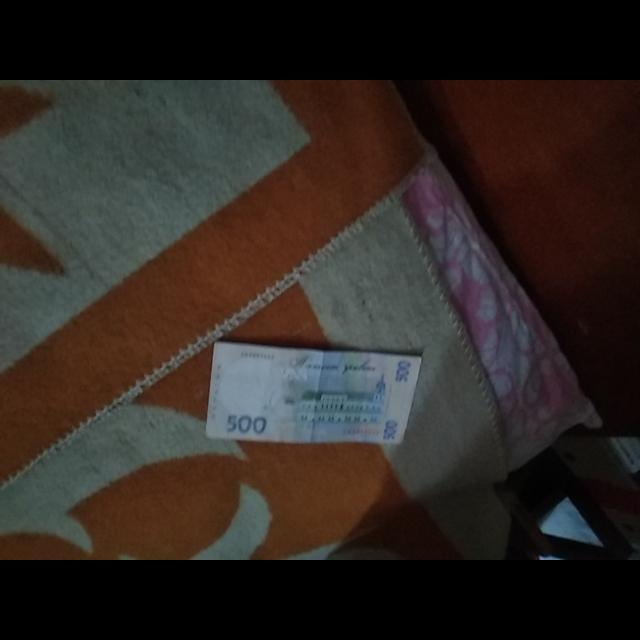500uah: (206, 341, 424, 445)
